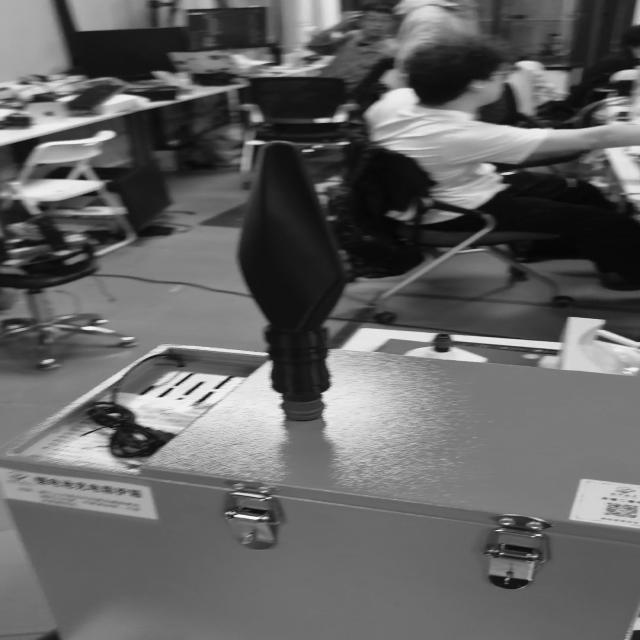base: (280, 399, 326, 421)
